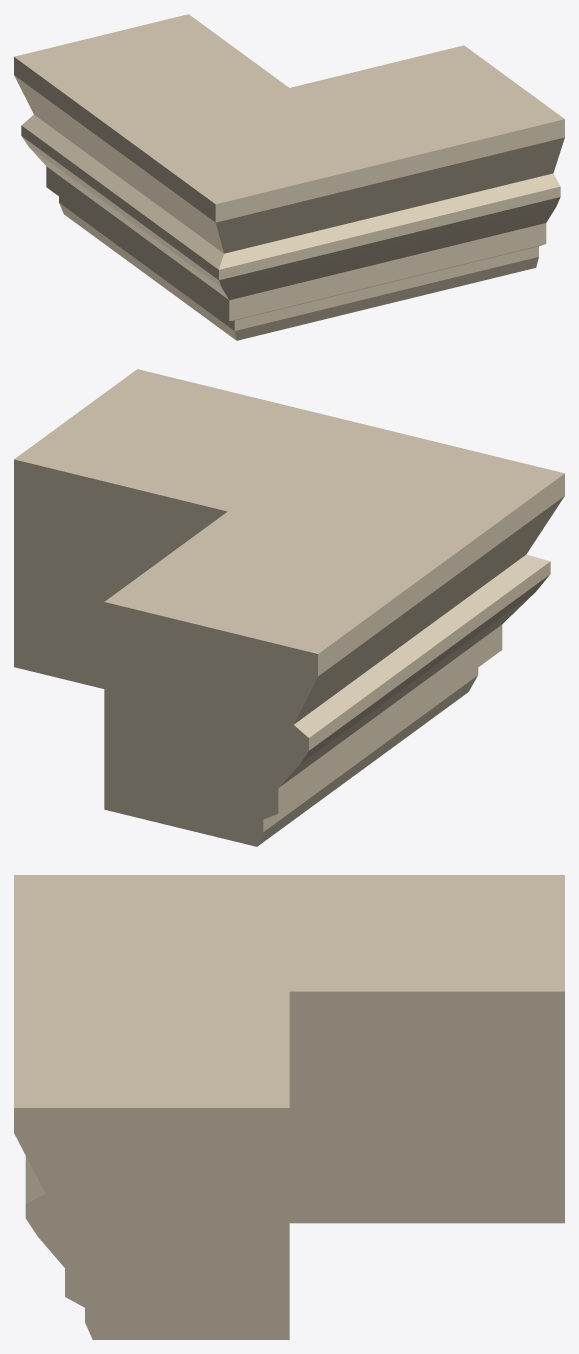
The model's file is T07_Cornice_Corner.glb.
3 views of the same model, one above another, from view 1: azimuth 30°, elevation 25°; view 2: azimuth 150°, elevation 25°; view 3: azimuth 270°, elevation 25° (orthographic). The views are drawn at different scales.
Visible parts, largest first — view 1: T07_Cornice_Corner; view 2: T07_Cornice_Corner; view 3: T07_Cornice_Corner.
Part boxes in pixels (x1=…): T07_Cornice_Corner: x1=14, y1=14, x2=564, y2=340; T07_Cornice_Corner: x1=14, y1=369, x2=564, y2=846; T07_Cornice_Corner: x1=14, y1=875, x2=564, y2=1339.
Size of the model in its own units: 1.4 by 0.65 by 1.4.
